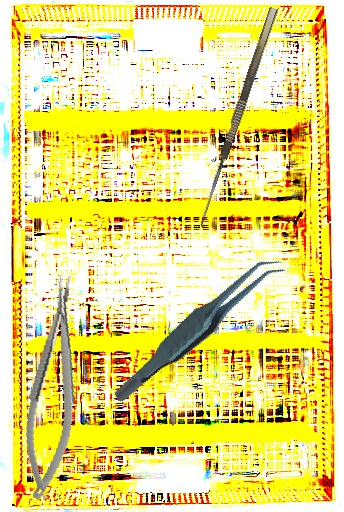Hook Surgical: (195, 6, 290, 232)
Needle Holder: (13, 272, 96, 503)
Tissue Forceps: (91, 252, 305, 405)
